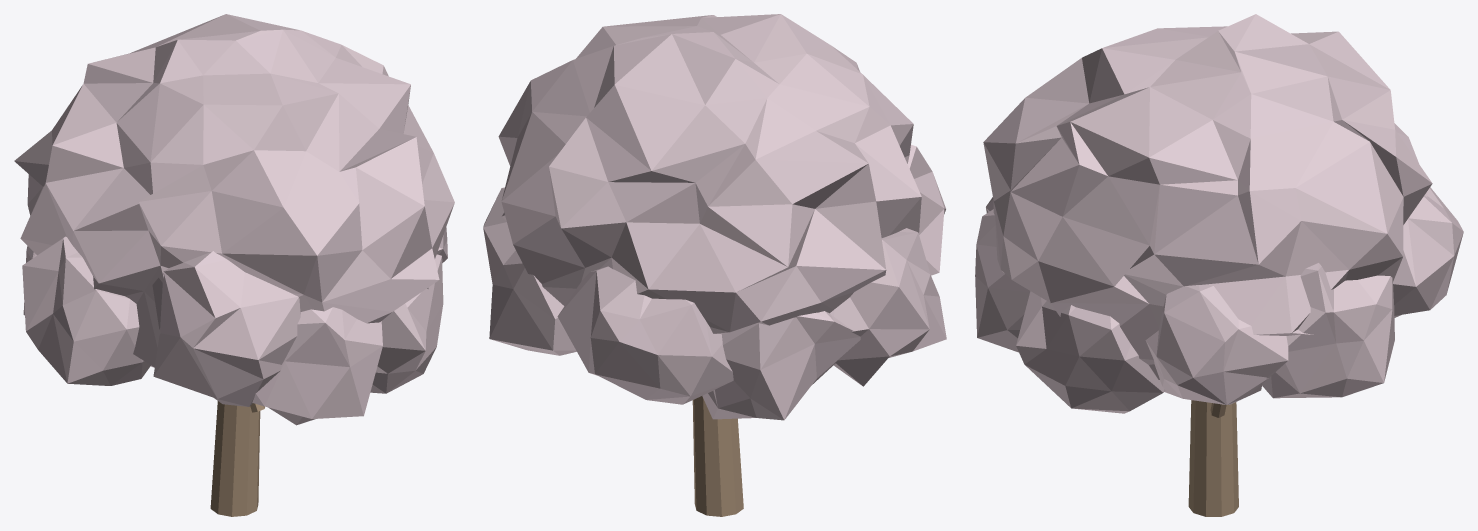
File: sakura_a.glb
3 views of the same model, side by side, from view 1: azimuth 30°, elevation 25°; view 2: azimuth 150°, elevation 25°; view 3: azimuth 270°, elevation 25° (orthographic). The views are drawn at different scales.
Parts seen in each view (by area): view 1: Sakura_2; view 2: Sakura_2; view 3: Sakura_2.
Boxes of the visible parts, box(x1,y1,x2,y2) form: Sakura_2: box(14, 14, 454, 516); Sakura_2: box(483, 14, 946, 516); Sakura_2: box(975, 14, 1463, 516).
Bounding box in the file's own units: 3.87 × 4.18 × 3.88.
